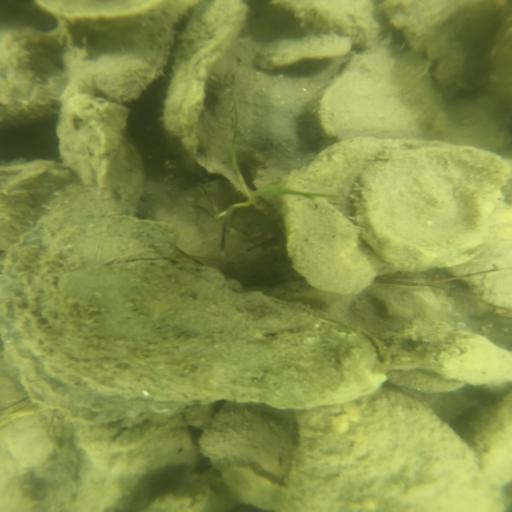Oyster-Closed: (283, 391, 509, 512), (55, 78, 144, 211), (320, 50, 451, 137), (382, 1, 502, 90), (287, 199, 379, 295), (72, 25, 180, 102), (205, 408, 298, 482), (283, 1, 400, 48)
Oyster-Open: (15, 186, 399, 409), (359, 150, 512, 270)
